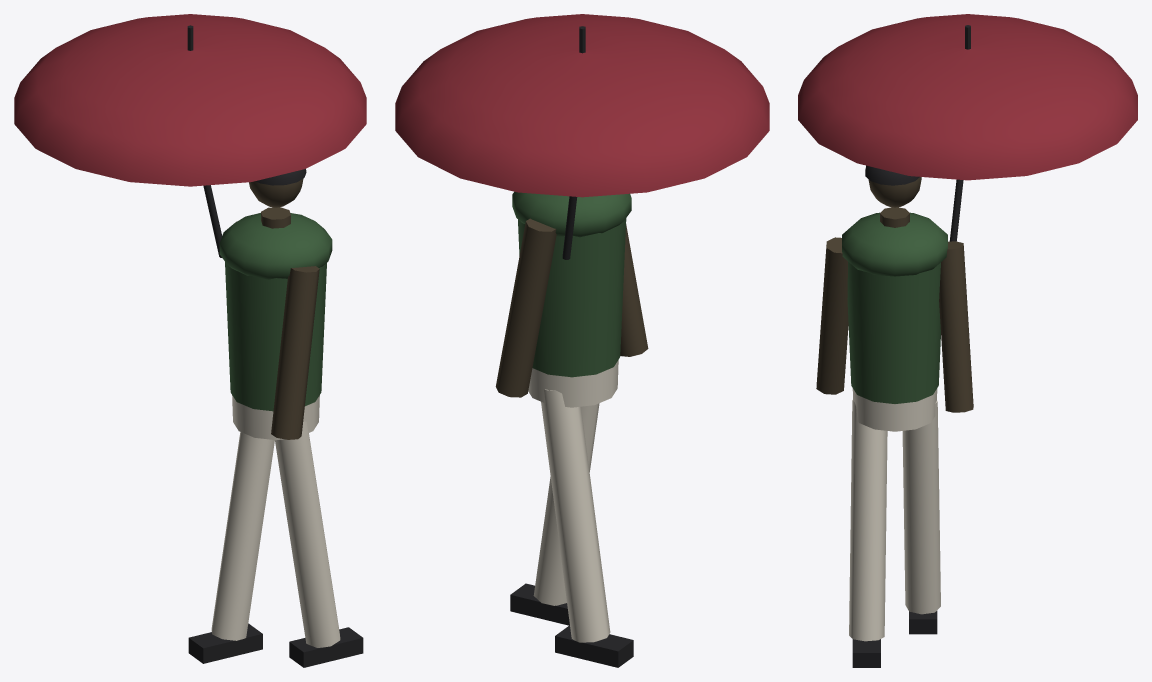
The model's file is KIT_FIGURE_0.glb.
3 renders of one model, left to right at view 1: azimuth 30°, elevation 25°; view 2: azimuth 150°, elevation 25°; view 3: azimuth 270°, elevation 25°, orthographic. The views are drawn at different scales.
Parts seen in each view (by area): view 1: KIT_FIGURE_0; view 2: KIT_FIGURE_0; view 3: KIT_FIGURE_0.
Part boxes in pixels (<box>): KIT_FIGURE_0: <box>14,14,366,667</box>; KIT_FIGURE_0: <box>395,14,769,667</box>; KIT_FIGURE_0: <box>798,14,1137,667</box>.
Bounding box in the file's own units: 1.04 × 1.96 × 1.02.
